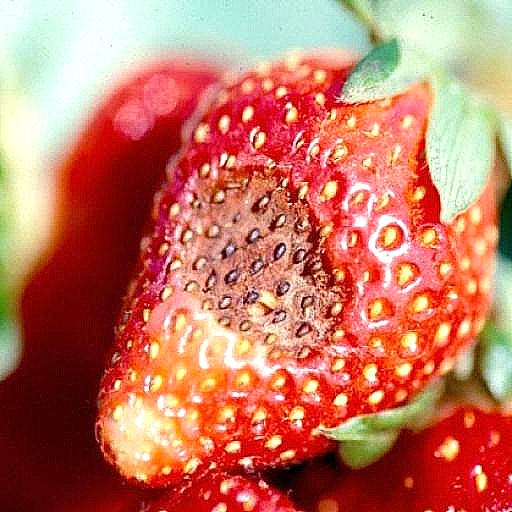Anthracnose Fruit Rot: (149, 155, 355, 368)
